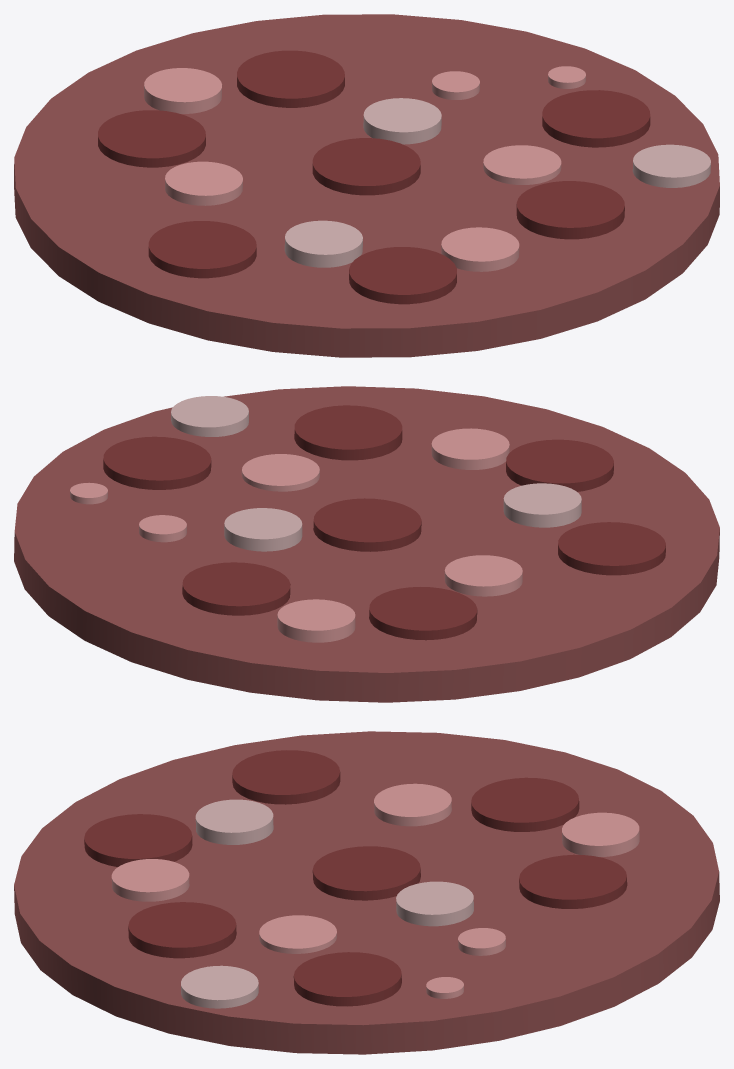
The model's file is pepperoni_slice.glb.
3 renders of one model, top to bottom at view 1: azimuth 30°, elevation 25°; view 2: azimuth 150°, elevation 25°; view 3: azimuth 270°, elevation 25°, orthographic.
Visible parts, largest first — view 1: Cylinder_17, Cylinder_13, Cylinder_10, Cylinder_9, Cylinder_15, Cylinder_11, Cylinder_14, Cylinder_12, Cylinder_22, Cylinder_20, Cylinder_7, Cylinder_21 (+5 smaller); view 2: Cylinder_17, Cylinder_13, Cylinder_11, Cylinder_9, Cylinder_10, Cylinder_15, Cylinder_12, Cylinder_14, Cylinder_22, Cylinder_7, Cylinder_20, Cylinder_18 (+5 smaller); view 3: Cylinder_17, Cylinder_13, Cylinder_10, Cylinder_15, Cylinder_11, Cylinder_12, Cylinder_9, Cylinder_14, Cylinder_22, Cylinder_7, Cylinder_20, Cylinder_18 (+5 smaller).
Boxes of the visible parts, x1=… form: Cylinder_17: x1=14, y1=14, x2=719, y2=357; Cylinder_13: x1=516, y1=181, x2=624, y2=239; Cylinder_10: x1=542, y1=90, x2=650, y2=147; Cylinder_9: x1=312, y1=138, x2=420, y2=195; Cylinder_15: x1=148, y1=221, x2=256, y2=278; Cylinder_11: x1=237, y1=50, x2=344, y2=107; Cylinder_14: x1=349, y1=247, x2=456, y2=304; Cylinder_12: x1=98, y1=110, x2=205, y2=167; Cylinder_22: x1=284, y1=220, x2=362, y2=267; Cylinder_20: x1=144, y1=68, x2=222, y2=113; Cylinder_7: x1=363, y1=98, x2=441, y2=144; Cylinder_21: x1=165, y1=161, x2=242, y2=205; Cylinder_17: x1=14, y1=386, x2=719, y2=702; Cylinder_13: x1=294, y1=405, x2=402, y2=460; Cylinder_11: x1=182, y1=562, x2=290, y2=615; Cylinder_9: x1=313, y1=498, x2=421, y2=551; Cylinder_10: x1=103, y1=436, x2=211, y2=489; Cylinder_15: x1=558, y1=522, x2=665, y2=575; Cylinder_12: x1=369, y1=587, x2=477, y2=640; Cylinder_14: x1=506, y1=439, x2=613, y2=491; Cylinder_22: x1=503, y1=483, x2=581, y2=527; Cylinder_7: x1=224, y1=508, x2=302, y2=551; Cylinder_20: x1=277, y1=599, x2=355, y2=642; Cylinder_18: x1=431, y1=428, x2=509, y2=469; Cylinder_17: x1=14, y1=731, x2=719, y2=1054; Cylinder_13: x1=128, y1=902, x2=236, y2=958; Cylinder_10: x1=293, y1=952, x2=401, y2=1006; Cylinder_15: x1=232, y1=750, x2=340, y2=804; Cylinder_11: x1=519, y1=854, x2=627, y2=908; Cylinder_12: x1=471, y1=777, x2=579, y2=831; Cylinder_9: x1=312, y1=846, x2=420, y2=900; Cylinder_14: x1=84, y1=814, x2=192, y2=866; Cylinder_22: x1=195, y1=799, x2=273, y2=844; Cylinder_7: x1=396, y1=881, x2=473, y2=926; Cylinder_20: x1=562, y1=812, x2=639, y2=856; Cylinder_18: x1=111, y1=859, x2=189, y2=901.
Bounding box in the file's own units: 0.0775 × 0.00669 × 0.0775.
